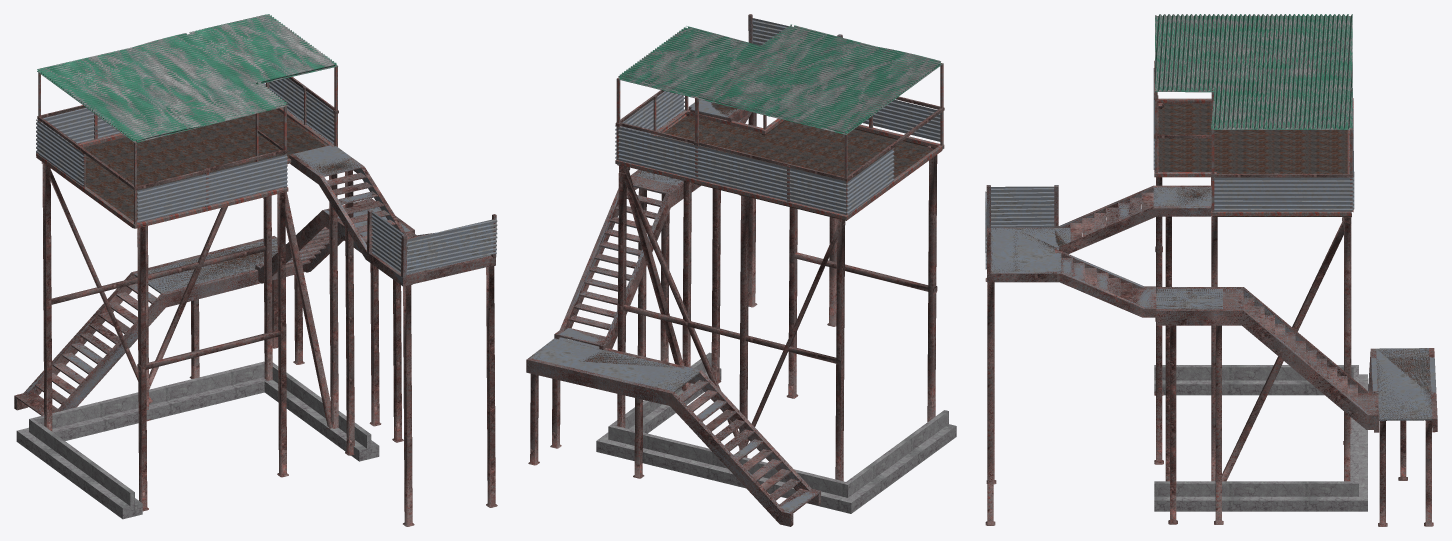
The model's file is tower.fbx.
The picture shows the model from 3 angles, left to right: view 1: azimuth 30°, elevation 25°; view 2: azimuth 150°, elevation 25°; view 3: azimuth 270°, elevation 25°; orthographic projection.
Parts seen in each view (by area): view 1: Group1; view 2: Group1; view 3: Group1.
Part boxes in pixels (x1=…): Group1: x1=14, y1=14, x2=497, y2=526; Group1: x1=526, y1=14, x2=956, y2=526; Group1: x1=985, y1=14, x2=1437, y2=526.
Bounding box in the file's own units: 449 × 548 × 594.
